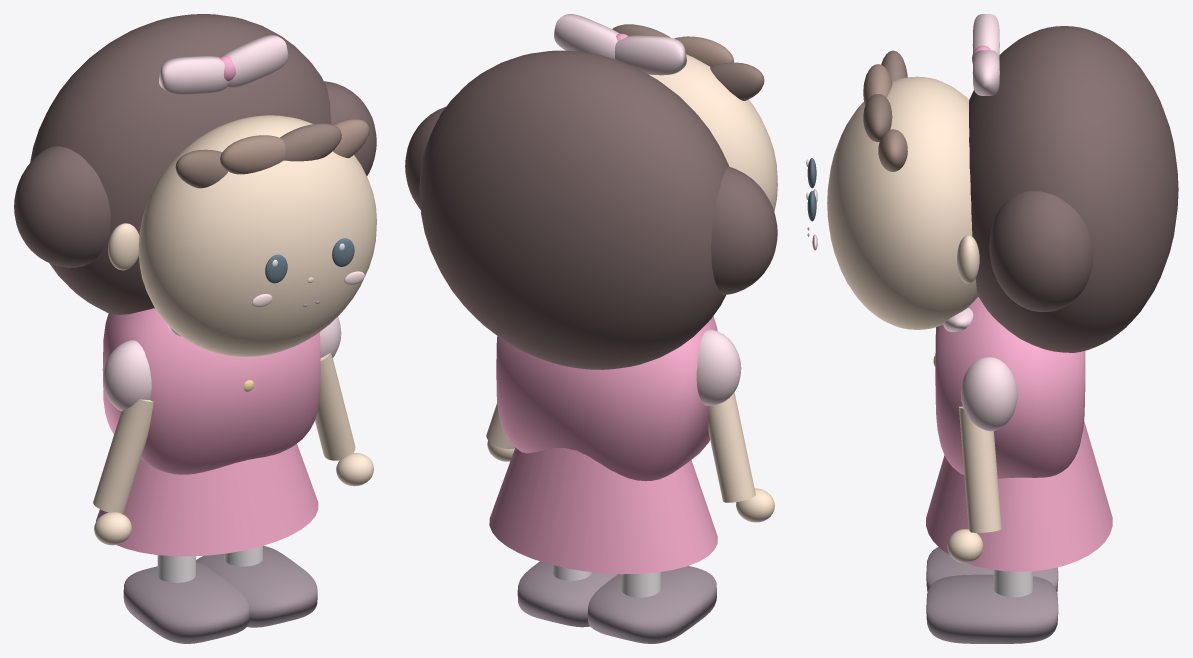
The model's file is chaea.glb.
3 views of the same model, side by side, from view 1: azimuth 30°, elevation 25°; view 2: azimuth 150°, elevation 25°; view 3: azimuth 270°, elevation 25° (orthographic). The views are drawn at different scales.
Parts seen in each view (by area): view 1: soft face, back hair shell, rounded bodice, soft skirt, left round bun, left shoe, right shoe, left arm, right arm, left sleeve, left ribbon loop, right ribbon loop (+11 smaller); view 2: back hair shell, soft skirt, rounded bodice, left shoe, soft face, left round bun, right shoe, left arm, left sleeve, left ribbon loop, right ribbon loop, right round bun (+5 smaller); view 3: back hair shell, soft face, rounded bodice, soft skirt, right round bun, right shoe, right arm, right sleeve, left shoe, right ribbon loop, soft bang 3, soft bang 4 (+6 smaller).
Boxes of the visible parts, bbox=[...] form: soft face: bbox=[138, 115, 376, 356]; back hair shell: bbox=[30, 14, 331, 314]; rounded bodice: bbox=[102, 308, 320, 474]; soft skirt: bbox=[96, 444, 318, 556]; left round bun: bbox=[14, 146, 110, 267]; left shoe: bbox=[123, 562, 249, 643]; right shoe: bbox=[196, 546, 317, 627]; left arm: bbox=[93, 399, 153, 513]; right arm: bbox=[315, 353, 355, 460]; left sleeve: bbox=[103, 340, 151, 411]; left ribbon loop: bbox=[159, 56, 228, 94]; right ribbon loop: bbox=[220, 35, 288, 87]; back hair shell: bbox=[419, 50, 729, 369]; soft skirt: bbox=[489, 447, 717, 574]; rounded bodice: bbox=[496, 316, 717, 481]; left shoe: bbox=[587, 565, 716, 643]; soft face: bbox=[649, 54, 777, 211]; left round bun: bbox=[711, 166, 777, 294]; right shoe: bbox=[517, 561, 617, 627]; left arm: bbox=[708, 392, 755, 502]; left sleeve: bbox=[696, 329, 741, 405]; left ribbon loop: bbox=[614, 35, 686, 75]; right ribbon loop: bbox=[554, 14, 619, 59]; right round bun: bbox=[405, 106, 446, 209]; back hair shell: bbox=[969, 26, 1178, 352]; soft face: bbox=[827, 76, 977, 329]; rounded bodice: bbox=[935, 297, 1085, 478]; soft skirt: bbox=[926, 421, 1112, 571]; right round bun: bbox=[989, 191, 1093, 311]; right shoe: bbox=[926, 574, 1058, 643]; right arm: bbox=[959, 406, 1001, 532]; right sleeve: bbox=[960, 357, 1017, 431]; left shoe: bbox=[926, 547, 1058, 592]; right ribbon loop: bbox=[972, 50, 999, 95]; soft bang 3: bbox=[863, 94, 892, 141]; soft bang 4: bbox=[878, 129, 907, 171].
Bounding box in the file's own units: 1.36 × 2.11 × 1.24.
